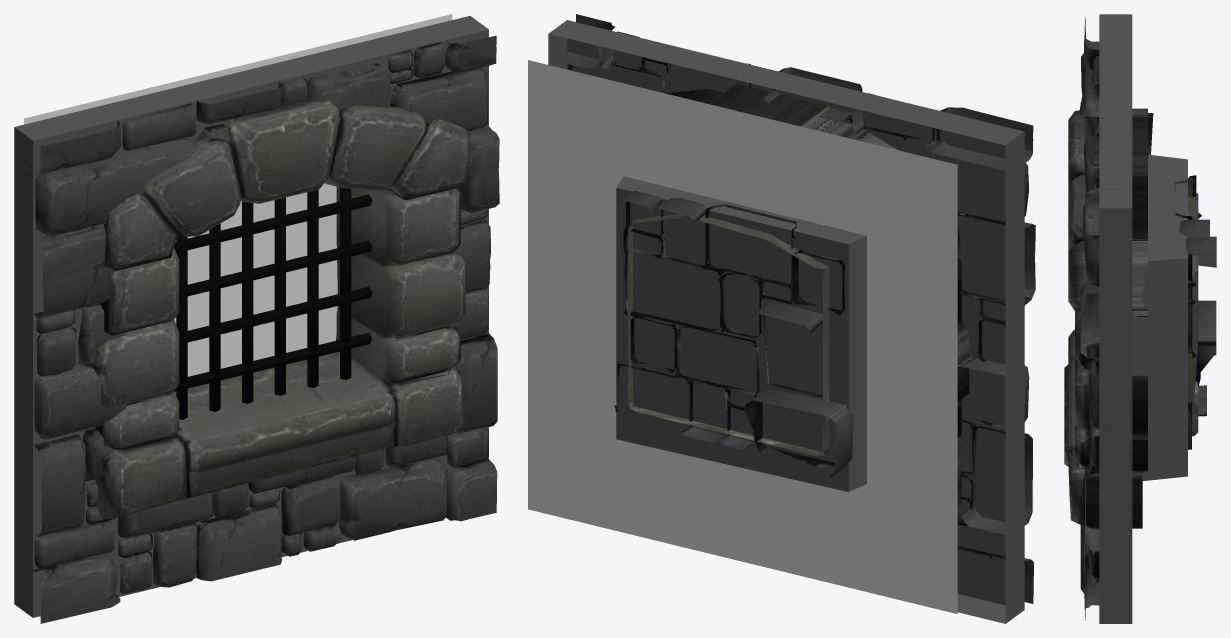
File: Wall_Recessed_Grated.fbx
3 views of the same model, side by side, from view 1: azimuth 30°, elevation 25°; view 2: azimuth 150°, elevation 25°; view 3: azimuth 270°, elevation 25° (orthographic). The views are drawn at different scales.
Visible parts, largest first — view 1: Wall_Recessed_Gated; view 2: Wall_Recessed_Gated; view 3: Wall_Recessed_Gated.
Boxes of the visible parts, left/top/right/bottom form: Wall_Recessed_Gated: left=14, top=14, right=499, bottom=623; Wall_Recessed_Gated: left=528, top=14, right=1035, bottom=623; Wall_Recessed_Gated: left=1064, top=14, right=1216, bottom=623.
Bounding box in the file's own units: 302 × 300 × 99.77.
Materials: 5 (3 with a texture image).
